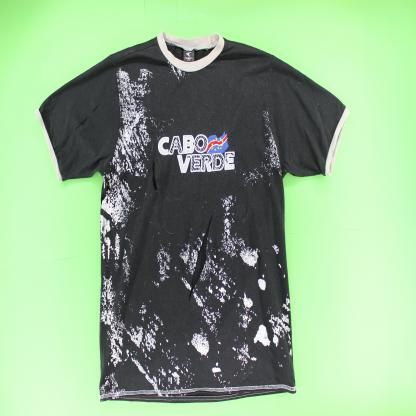hole: (188, 211, 215, 304), (72, 101, 101, 134), (152, 158, 159, 195)
